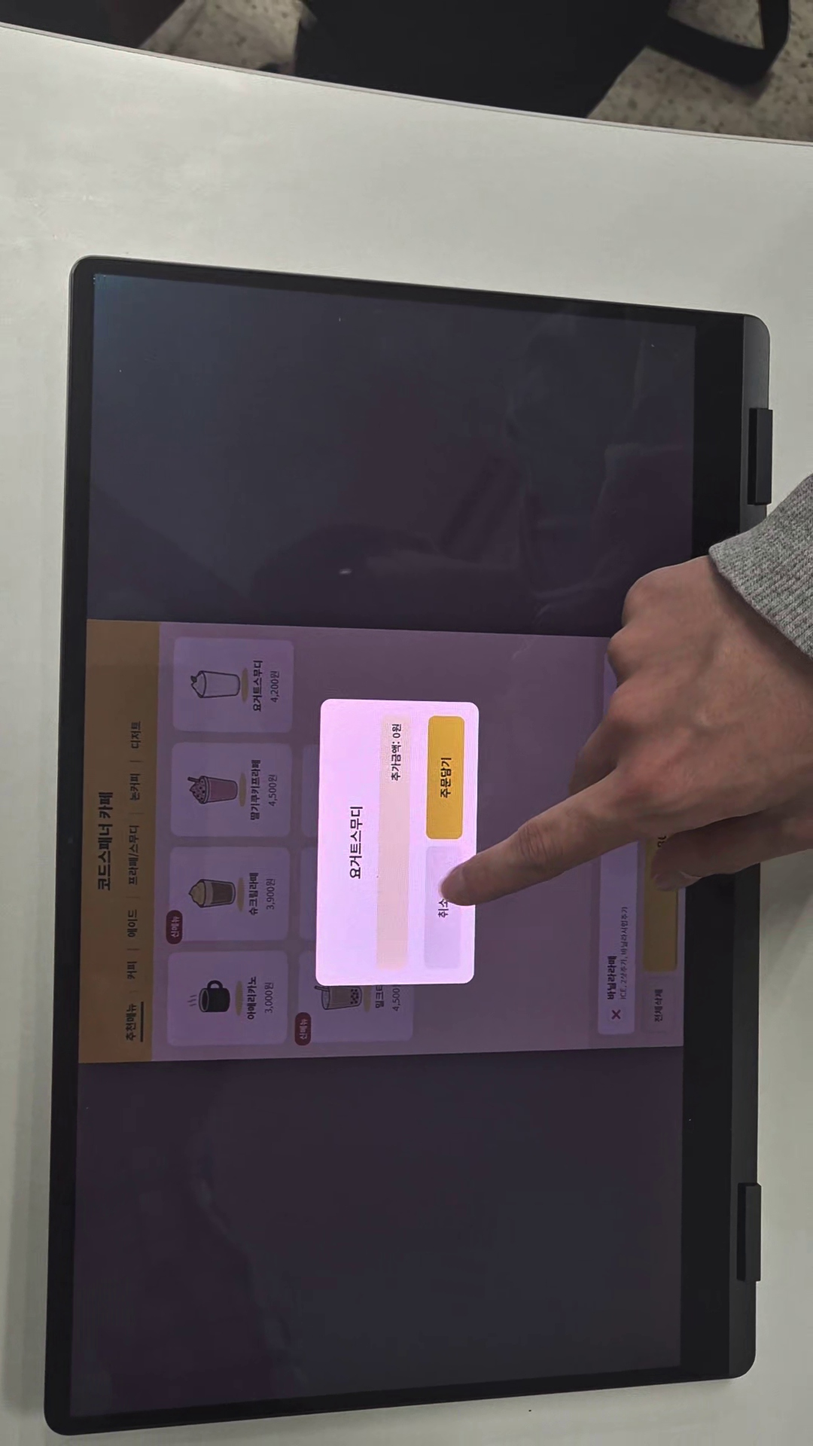action_button: (427, 715, 463, 839), (424, 846, 460, 970)
popup_modal: (315, 699, 479, 986)
